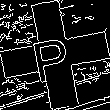P_N: (32, 27, 78, 83)
